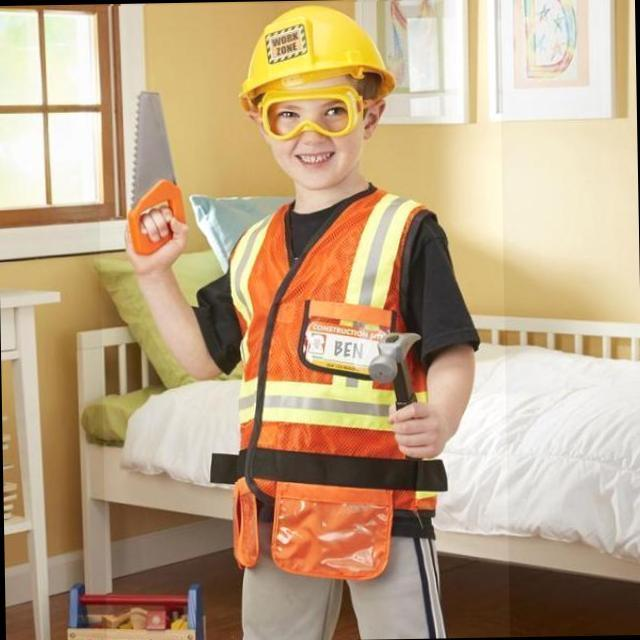Helmet: (236, 2, 403, 116)
Person: (99, 0, 502, 640)
Safety Vest: (227, 192, 442, 580)
bare-arms: (375, 392, 454, 482), (118, 202, 196, 285)
